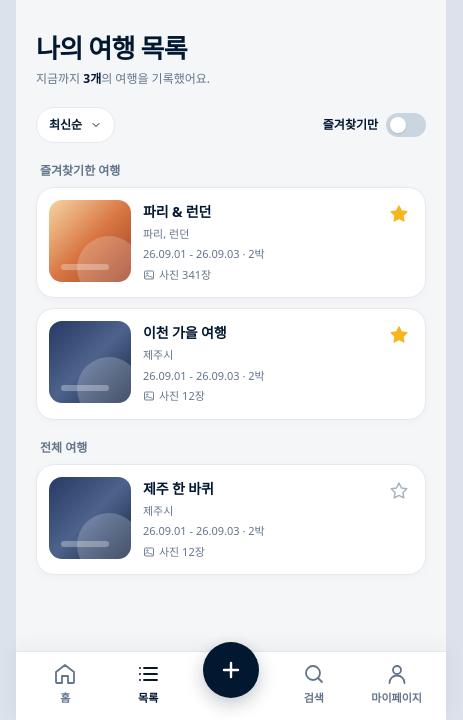
Test: TripListPage › 즐겨찾기만 보기를 켜면 favorite=true로 요청하고 즐겨찾기한 여행만 표시한다
Expected: the heading "파리 & 런던" is shown, 143,202 -> 211,220
Click the switch named "즐겨찾기만 보기": (374, 124) 323,112 -> 426,136
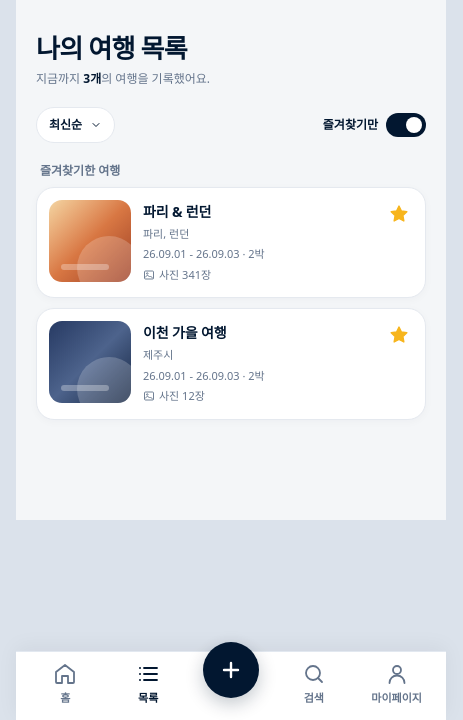
Expected: the heading "이천 가을 여행" is shown, 143,323 -> 226,342
Expected: the heading "제주 한 바퀴" is gone
